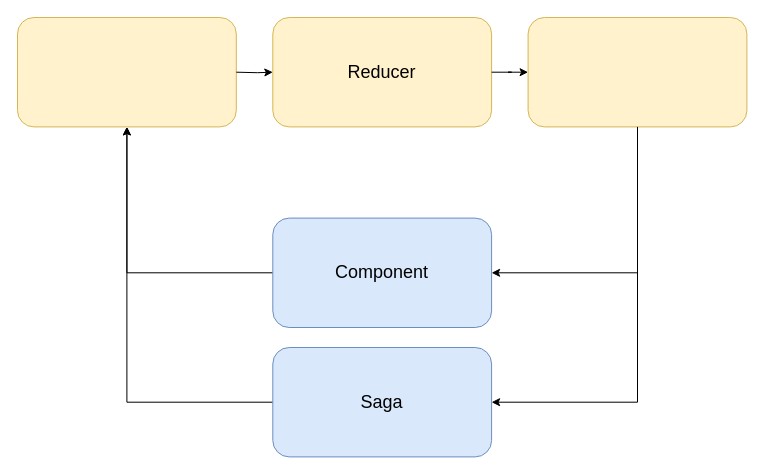
The diagram is 765 pixels wide and 475 high, and some of its shapes have lost their labels. The box of each missing label's shape, as (x1, y1, x2, y2) in pixels:
Action: (16, 16, 236, 127)
Store: (527, 16, 747, 127)
